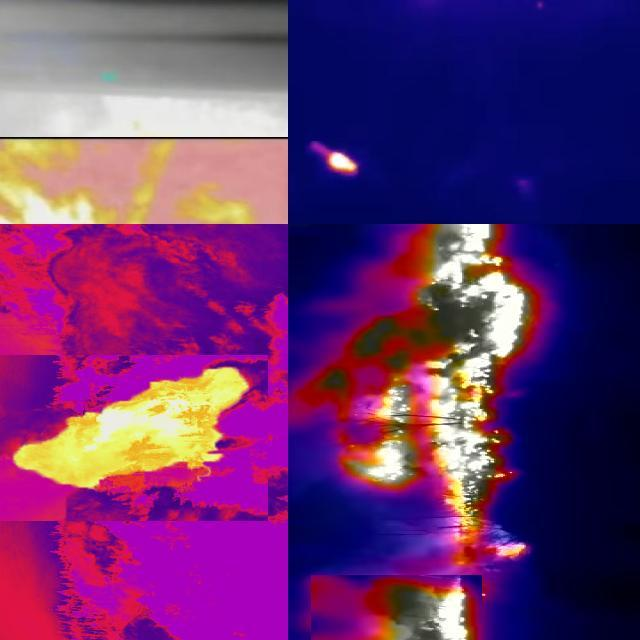fire: (289, 225, 539, 500), (1, 356, 268, 522), (1, 138, 289, 225), (360, 503, 535, 571), (311, 576, 482, 640), (319, 148, 363, 176)
